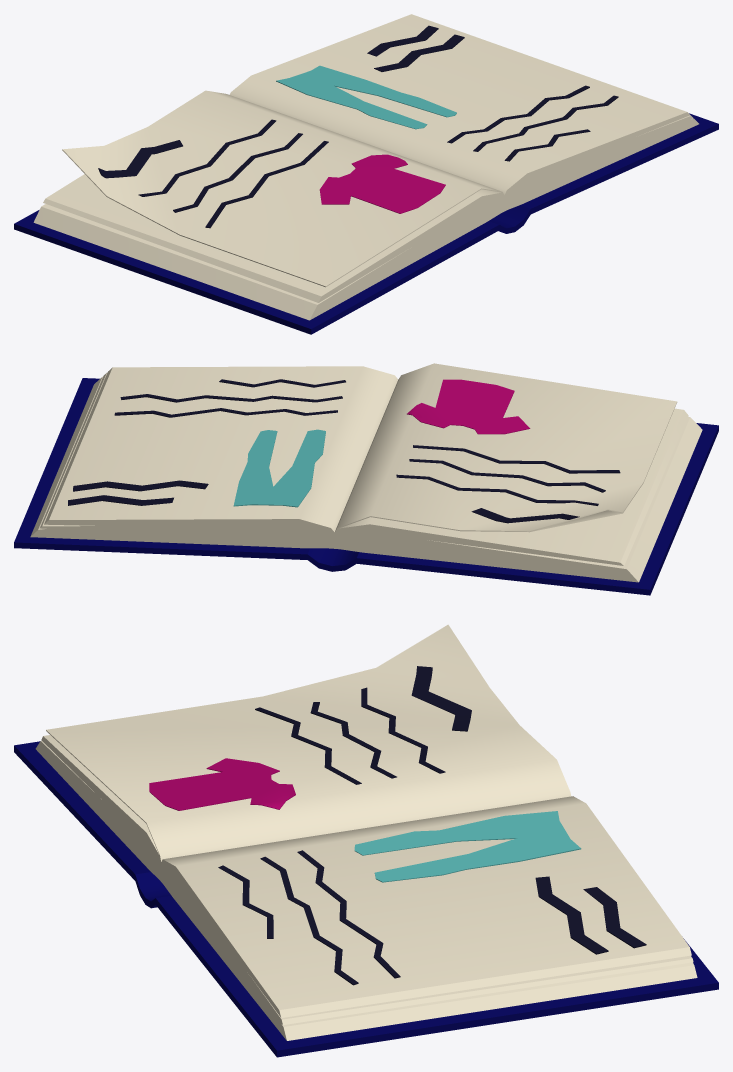
The model's file is Livrinho.fbx.
The picture shows the model from 3 angles, top to bottom: view 1: azimuth 30°, elevation 25°; view 2: azimuth 150°, elevation 25°; view 3: azimuth 270°, elevation 25°; orthographic projection. The views are drawn at different scales.
Parts seen in each view (by area): view 1: 4 Pages_Material #30_0, 4 Cover_Material #40_0, 4 Text_Material #39_0, 4 TShort_Material #41_0, 4 Pants_Material #42_0; view 2: 4 Pages_Material #30_0, 4 Cover_Material #40_0, 4 Text_Material #39_0, 4 Pants_Material #42_0, 4 TShort_Material #41_0; view 3: 4 Pages_Material #30_0, 4 Cover_Material #40_0, 4 Text_Material #39_0, 4 Pants_Material #42_0, 4 TShort_Material #41_0.
Boxes of the visible parts, box(x1,y1,x2,y2) form: 4 Pages_Material #30_0: box(33, 14, 698, 320); 4 Cover_Material #40_0: box(14, 113, 718, 334); 4 Text_Material #39_0: box(98, 25, 618, 228); 4 TShort_Material #41_0: box(319, 154, 445, 213); 4 Pants_Material #42_0: box(276, 65, 456, 129); 4 Pages_Material #30_0: box(30, 363, 702, 582); 4 Cover_Material #40_0: box(14, 378, 718, 595); 4 Text_Material #39_0: box(68, 379, 620, 523); 4 Pants_Material #42_0: box(233, 429, 325, 507); 4 TShort_Material #41_0: box(407, 379, 530, 434); 4 Pages_Material #30_0: box(35, 624, 697, 1040); 4 Cover_Material #40_0: box(14, 741, 718, 1057); 4 Text_Material #39_0: box(218, 666, 646, 985); 4 Pants_Material #42_0: box(354, 811, 581, 882); 4 TShort_Material #41_0: box(149, 758, 295, 810).
Bounding box in the file's own units: 50.69 × 5.48 × 40.45.
